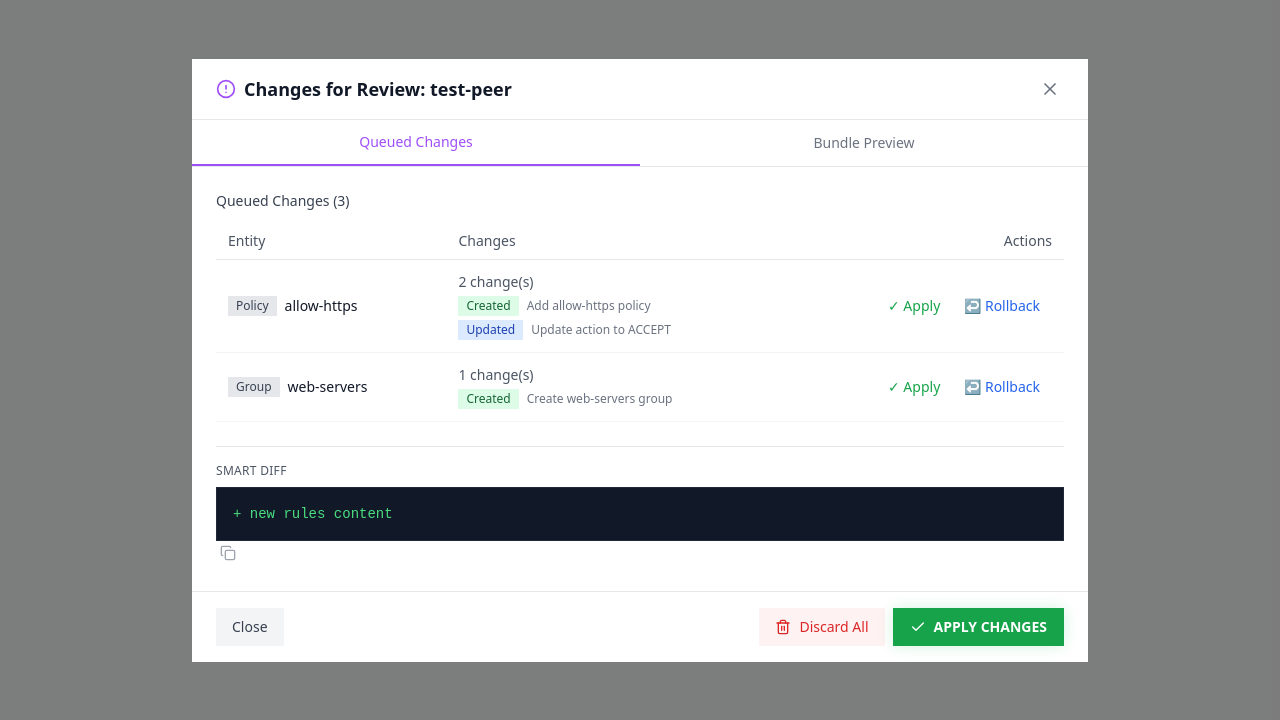
PendingChangesModal › bundle preview tab › switches to bundle preview tab
The width and height of the screenshot is (1280, 720).
Click the button "Bundle Preview": (864, 142) [640,120,1088,166]
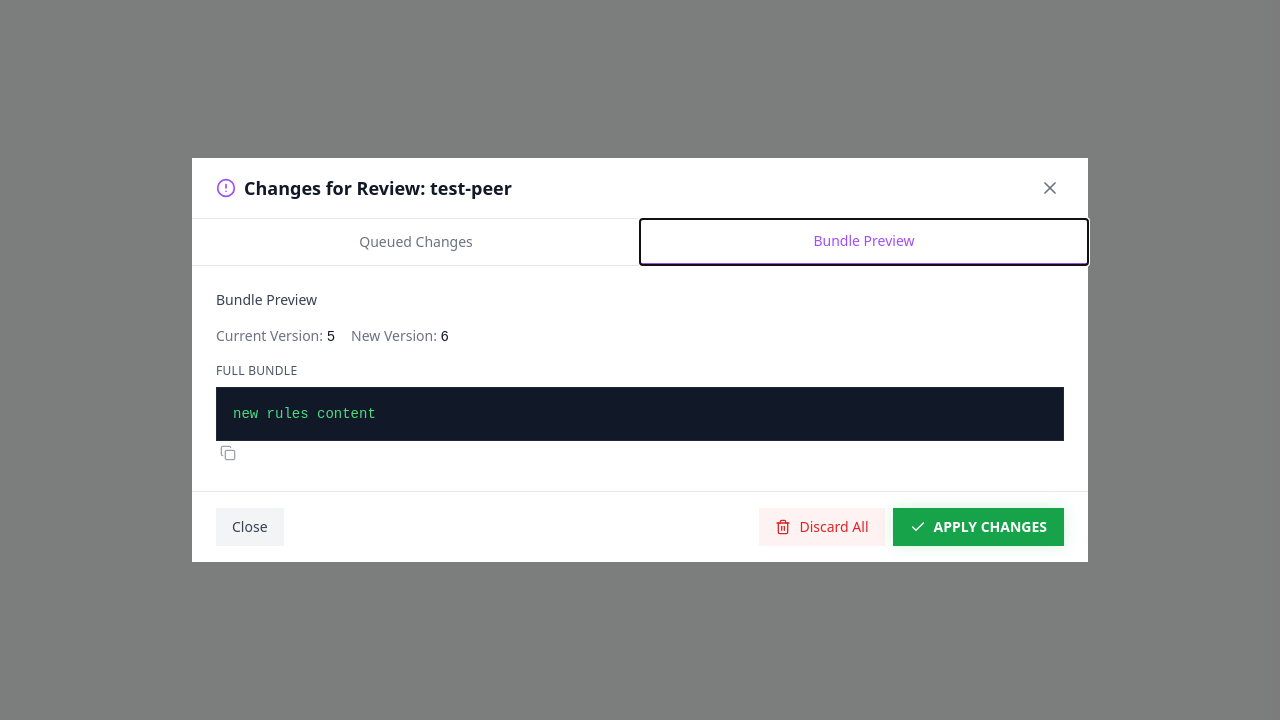
Now the text "Current Version:" is shown, box [216,326,327,345]
Now the text "New Version:" is shown, box [351,326,441,345]
